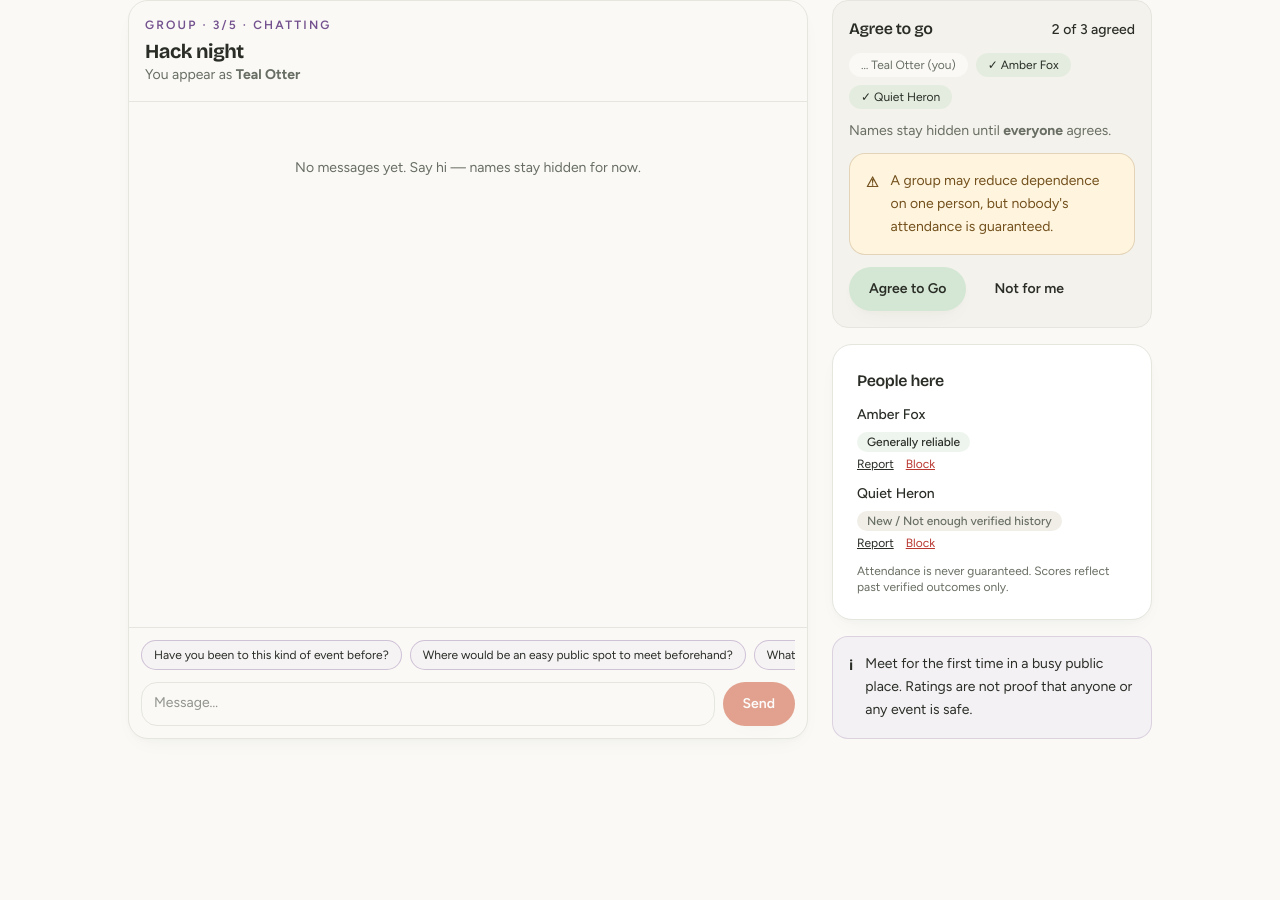
BuddyChat › reveals the buddy only after a successful agreement from chatting
Expected: the text "2 of 3 agreed" is shown, [1052, 20, 1135, 40]
Expected: the text "Nia Calder" is not shown
Step 1. Click the button "Agree to Go" → (908, 289), box [849, 267, 966, 311]
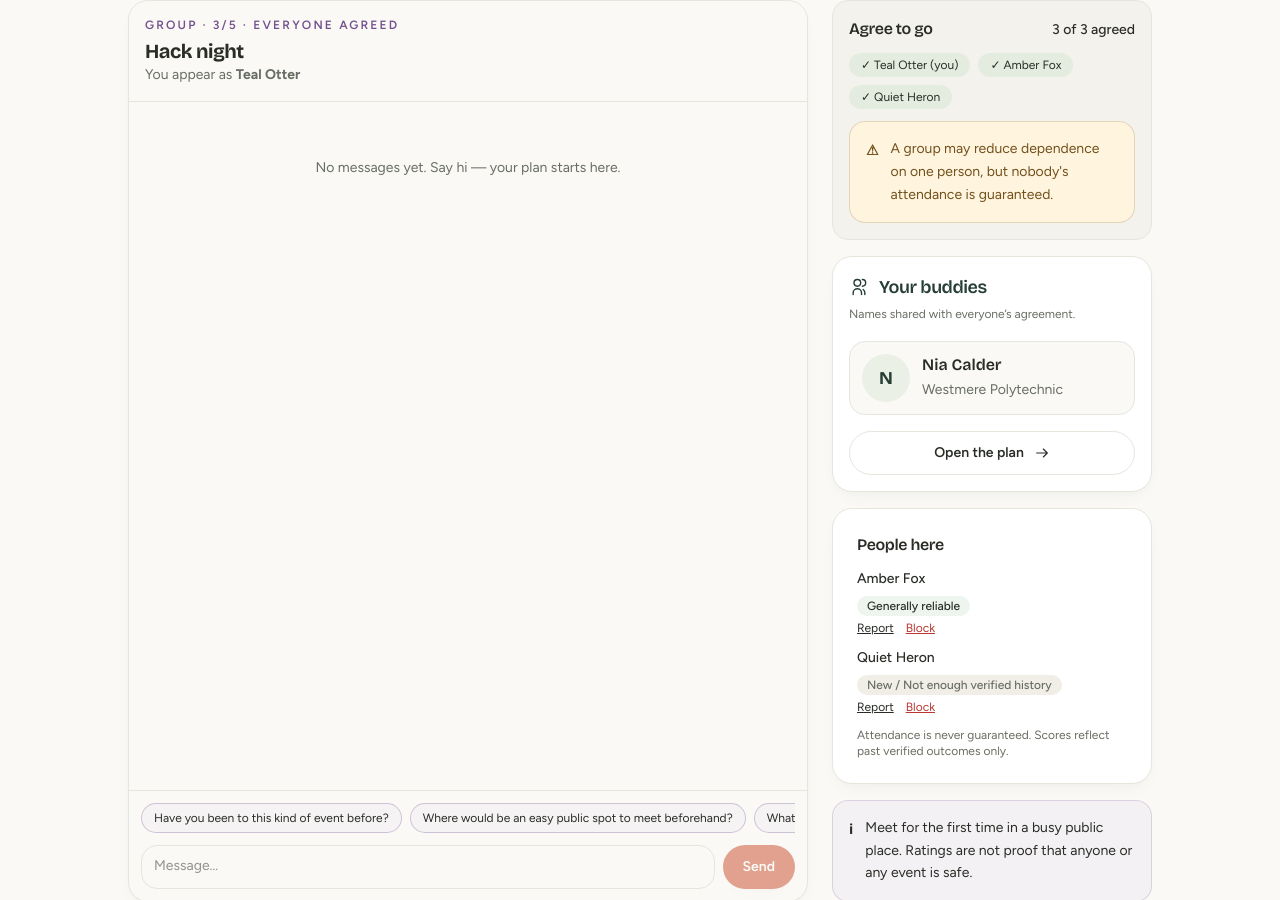
Now the element "Your buddies" is shown, box [832, 256, 1152, 492]
Now the list named "Revealed buddy profiles" is shown, box [849, 341, 1135, 415]
Now the text "Nia Calder" is shown, box [922, 355, 1002, 374]
